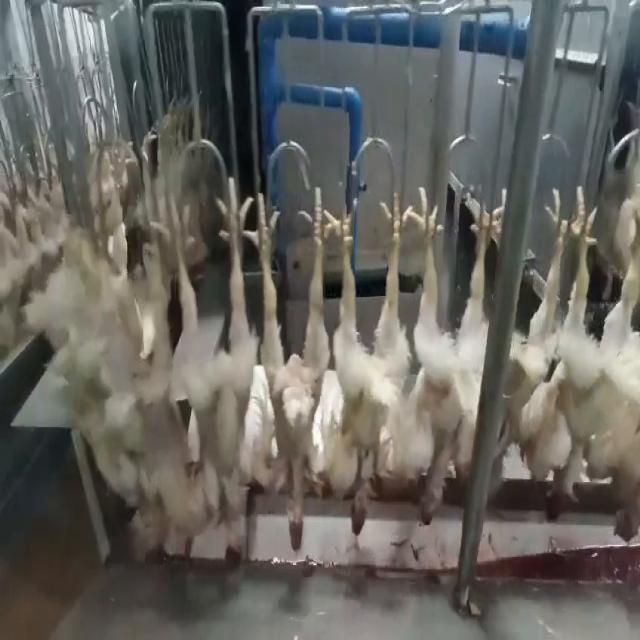chicken: (399, 186, 503, 526), (177, 164, 255, 573), (324, 192, 404, 534), (520, 178, 594, 526), (262, 168, 325, 554), (589, 192, 640, 547), (122, 186, 170, 546)
